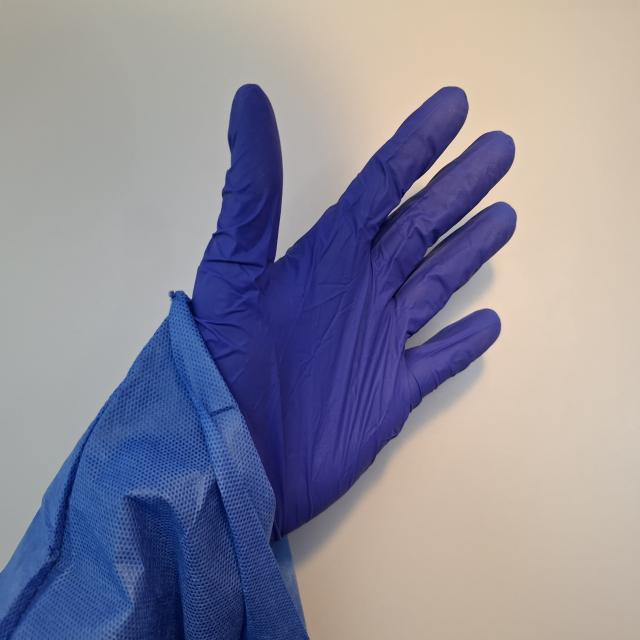glove_on: (162, 81, 520, 554)
